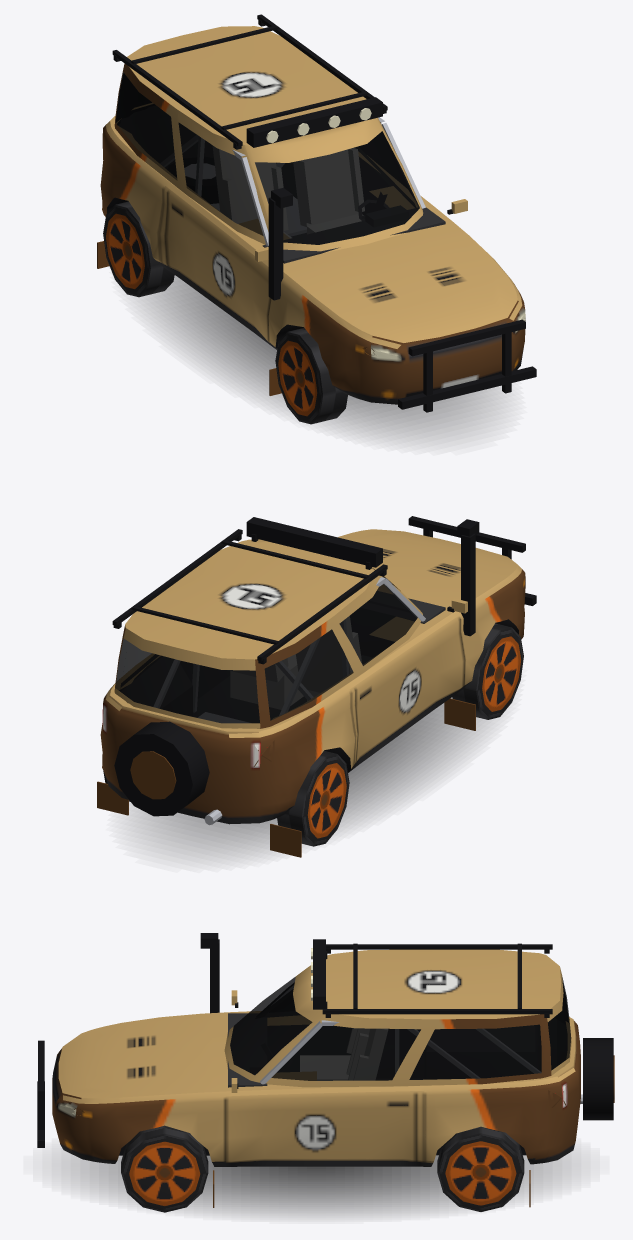
File: caatinga.glb
3 renders of one model, top to bottom at view 1: azimuth 30°, elevation 25°; view 2: azimuth 150°, elevation 25°; view 3: azimuth 270°, elevation 25°, orthographic. The views are drawn at different scales.
Visible parts, largest first — view 1: Carroceria, Interior, Capo_malha, Porta_D_malha, Sombra, Roda_DD, Roda_TD, Porta_E_malha, Porta_TD_malha, Tampa_malha; view 2: Carroceria, Tampa_malha, Interior, Porta_D_malha, Sombra, Capo_malha, Roda_TD, Roda_DD, Porta_TD_malha; view 3: Carroceria, Porta_E_malha, Interior, Sombra, Capo_malha, Roda_DE, Roda_TE, Tampa_malha, Porta_TE_malha, Porta_D_malha.
Boxes of the visible parts, bbox=[...] form: Carroceria: bbox=[97, 14, 536, 412]; Interior: bbox=[118, 106, 445, 263]; Capo_malha: bbox=[290, 230, 522, 348]; Porta_D_malha: bbox=[165, 114, 270, 342]; Sombra: bbox=[141, 275, 501, 441]; Roda_DD: bbox=[275, 328, 347, 424]; Roda_TD: bbox=[103, 201, 174, 297]; Porta_E_malha: bbox=[359, 117, 467, 214]; Porta_TD_malha: bbox=[159, 111, 183, 265]; Tampa_malha: bbox=[116, 74, 154, 124]; Carroceria: bbox=[97, 516, 536, 857]; Tampa_malha: bbox=[107, 628, 260, 816]; Interior: bbox=[119, 577, 445, 722]; Porta_D_malha: bbox=[340, 575, 467, 762]; Sombra: bbox=[131, 698, 490, 858]; Capo_malha: bbox=[338, 529, 522, 603]; Roda_TD: bbox=[277, 751, 349, 846]; Roda_DD: bbox=[452, 623, 523, 719]; Porta_TD_malha: bbox=[336, 611, 357, 764]; Carroceria: bbox=[37, 933, 582, 1207]; Porta_E_malha: bbox=[225, 1014, 416, 1162]; Interior: bbox=[228, 986, 566, 1087]; Sombra: bbox=[61, 1153, 571, 1216]; Capo_malha: bbox=[63, 1015, 212, 1103]; Roda_DE: bbox=[121, 1125, 208, 1212]; Roda_TE: bbox=[437, 1126, 524, 1211]; Tampa_malha: bbox=[547, 967, 614, 1140]; Porta_TE_malha: bbox=[416, 1019, 424, 1161]; Porta_D_malha: bbox=[231, 984, 294, 1014].
Bounding box in the file's own units: 2.64 × 2.03 × 5.55.
14 materials, 5 textured.
